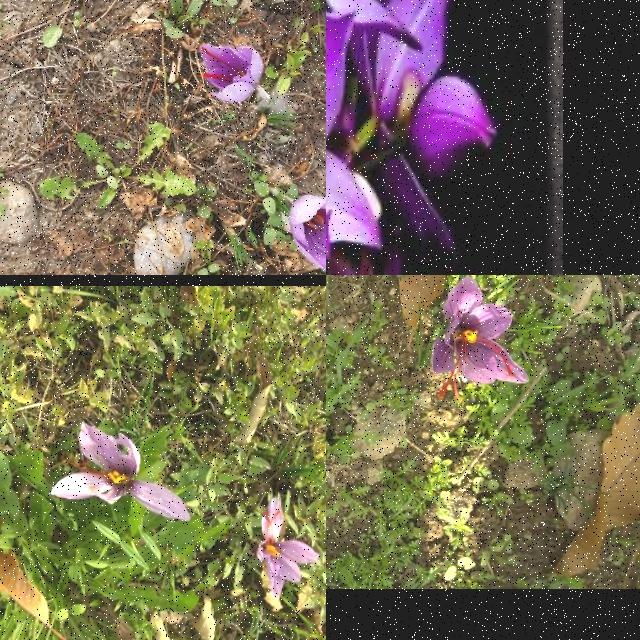flower: (50, 422, 192, 522), (431, 275, 531, 401), (256, 498, 320, 598), (198, 42, 266, 102), (288, 194, 326, 271)
